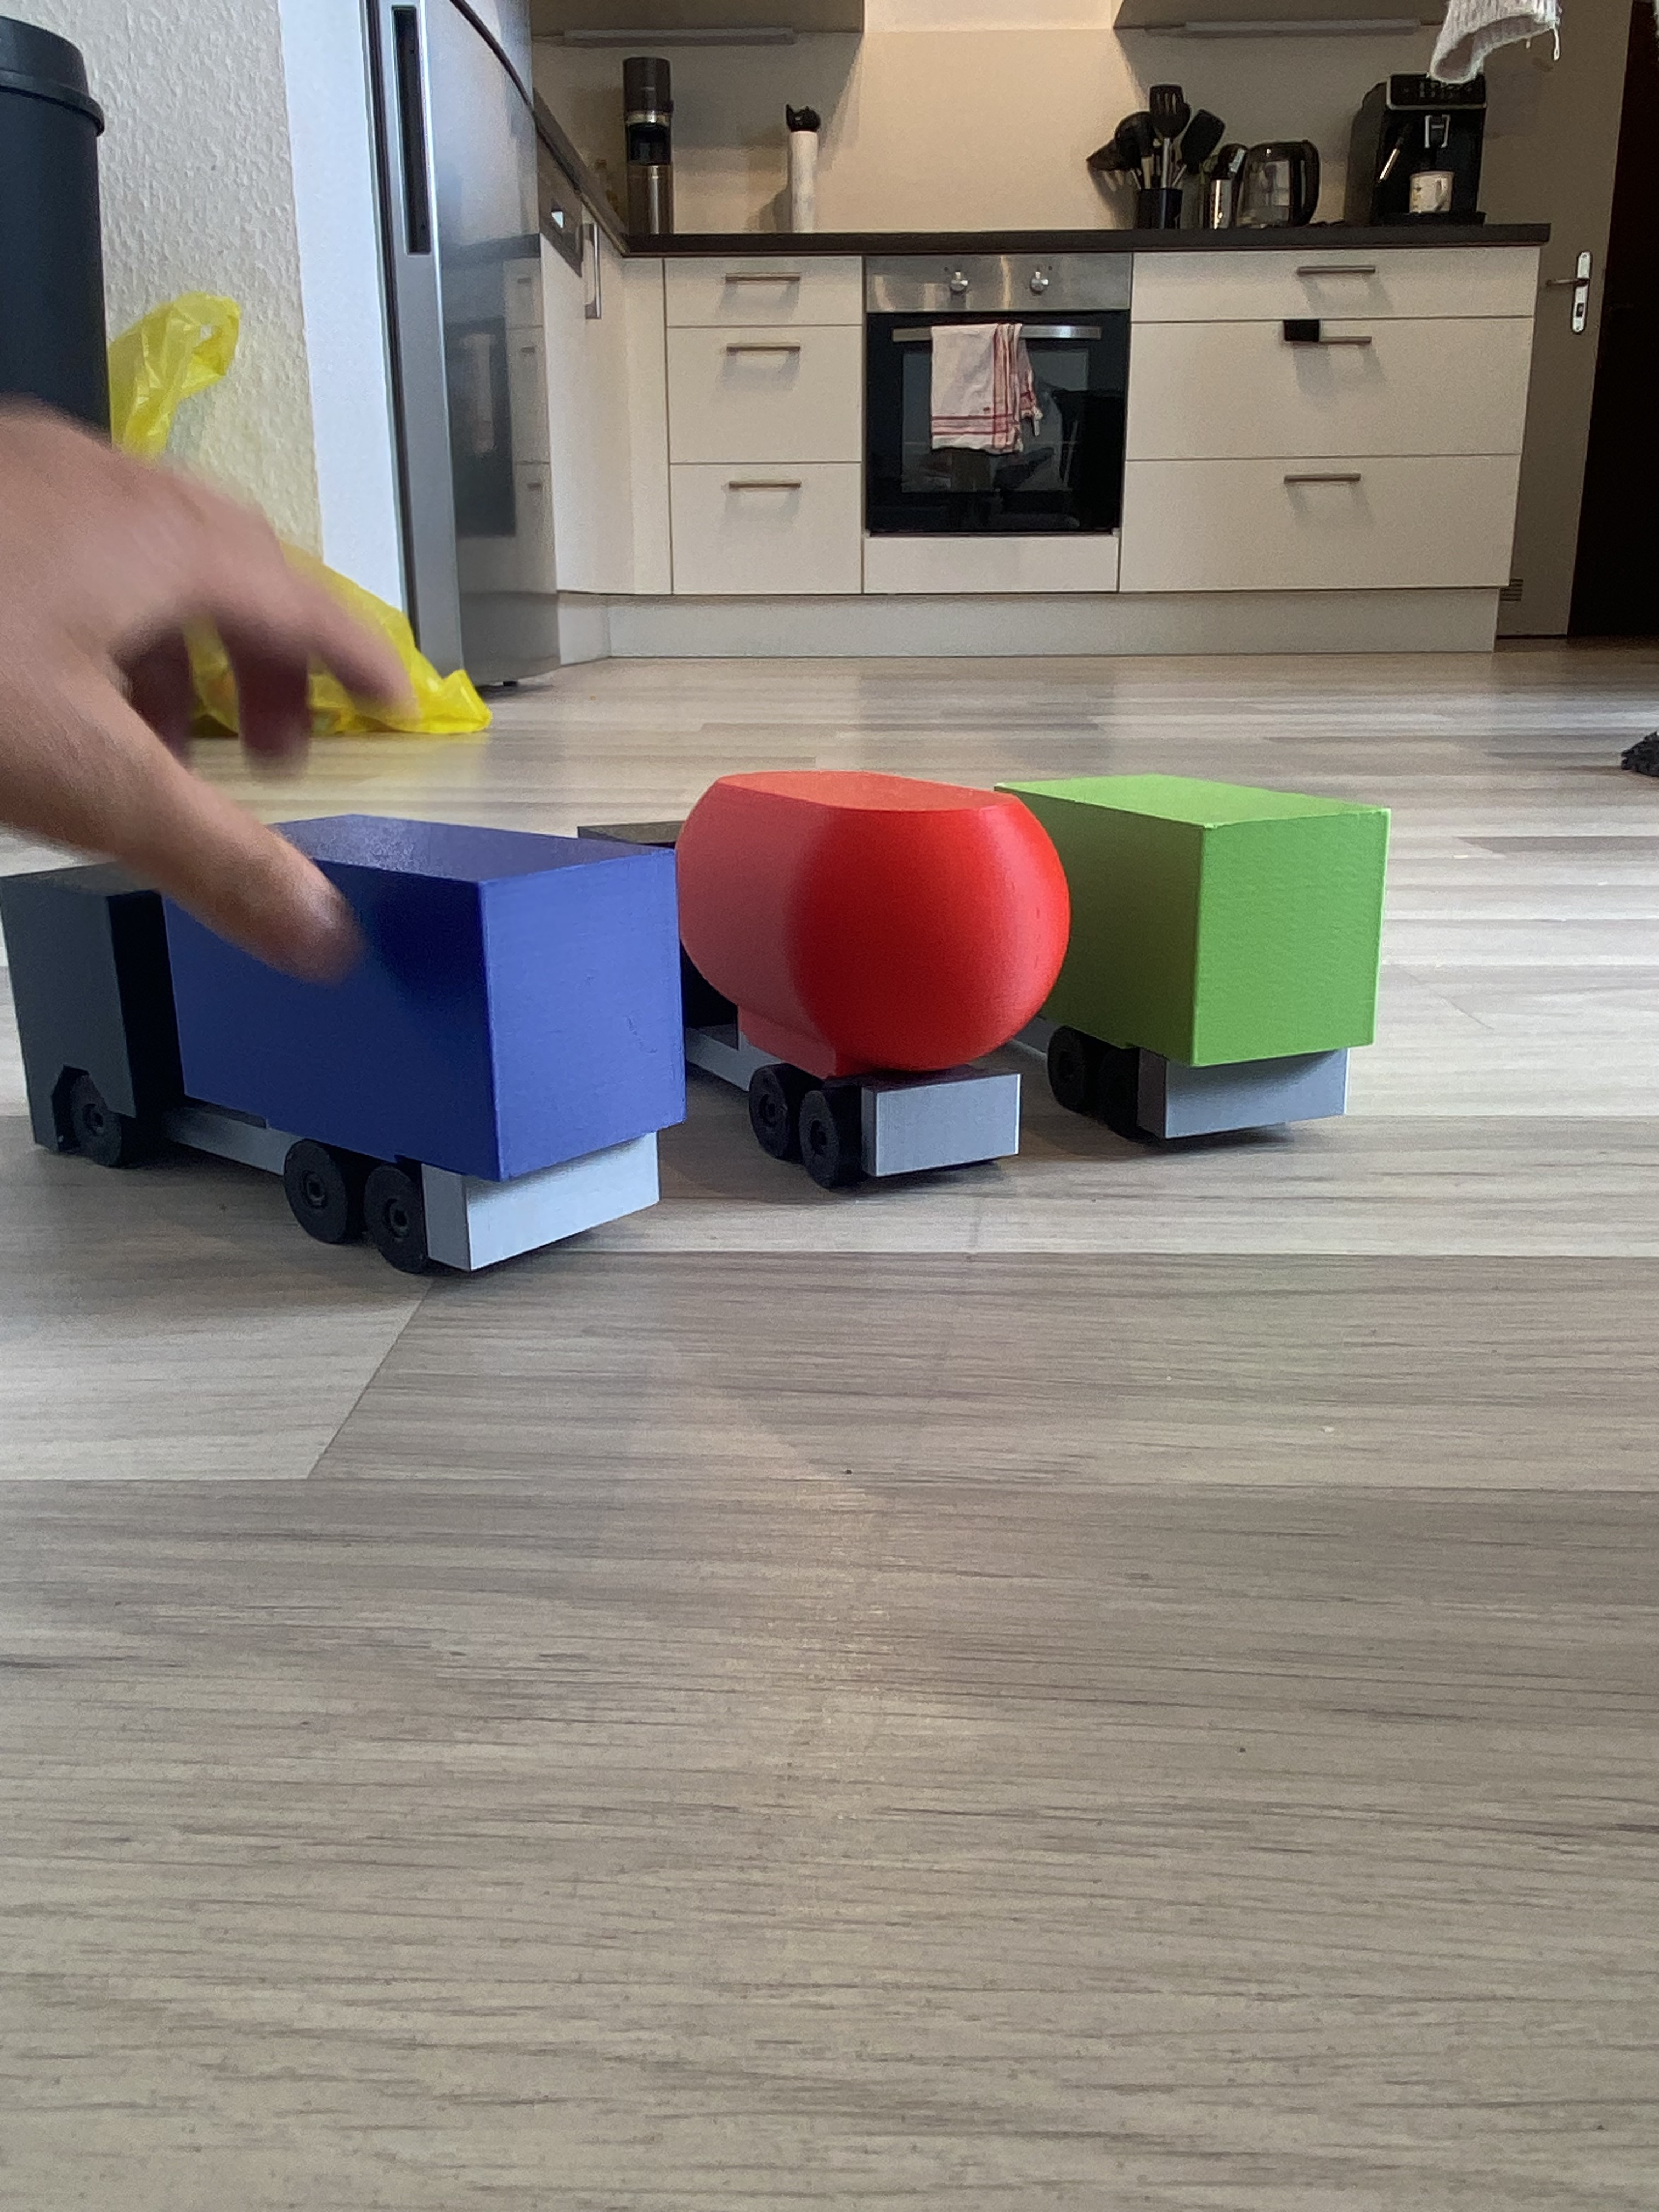blue_truck: (105, 698, 587, 1385)
green_truck: (1000, 777, 1385, 1143)
red_truck: (671, 789, 1098, 1170)
